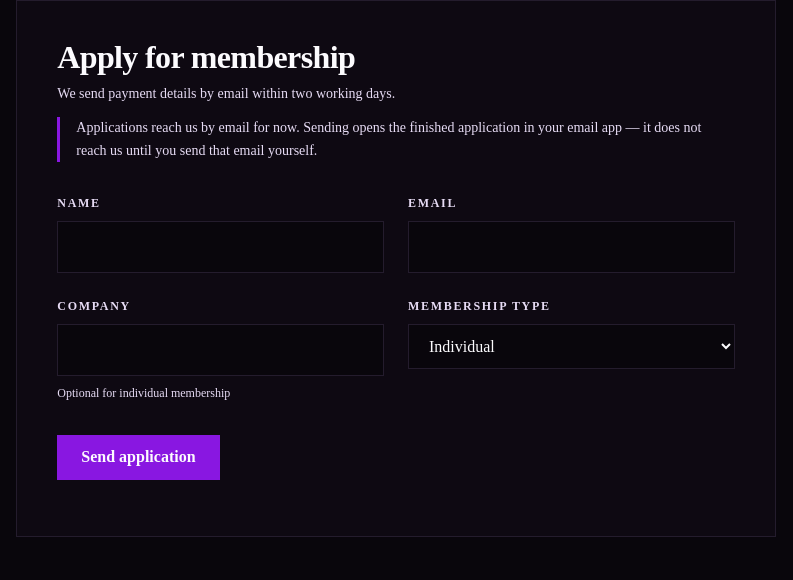
MembershipForm (en) › asks for a company name only when the application is a company one
Type "Anna" into the field labelled "Name". click: [221, 247]
box: left=57, top=221, right=384, bottom=273
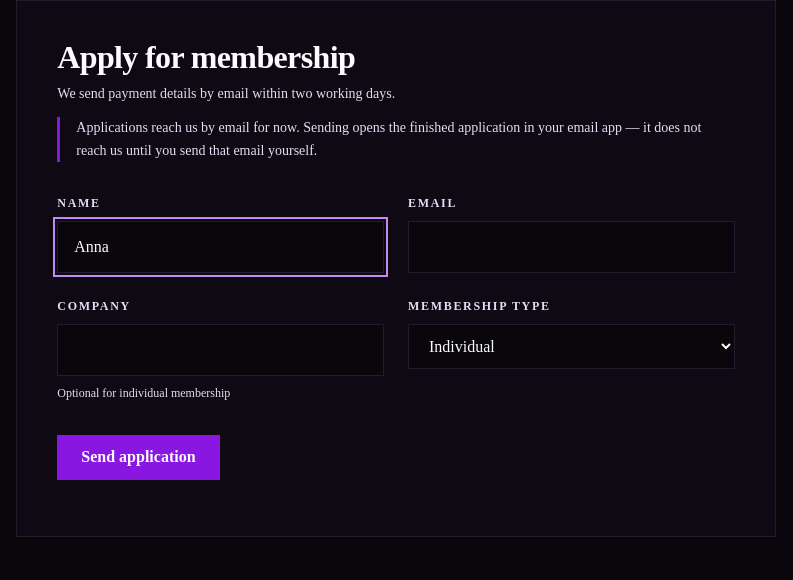
Type "anna@example.is" into the field labelled "Email". click: [571, 247]
box: left=408, top=221, right=735, bottom=273
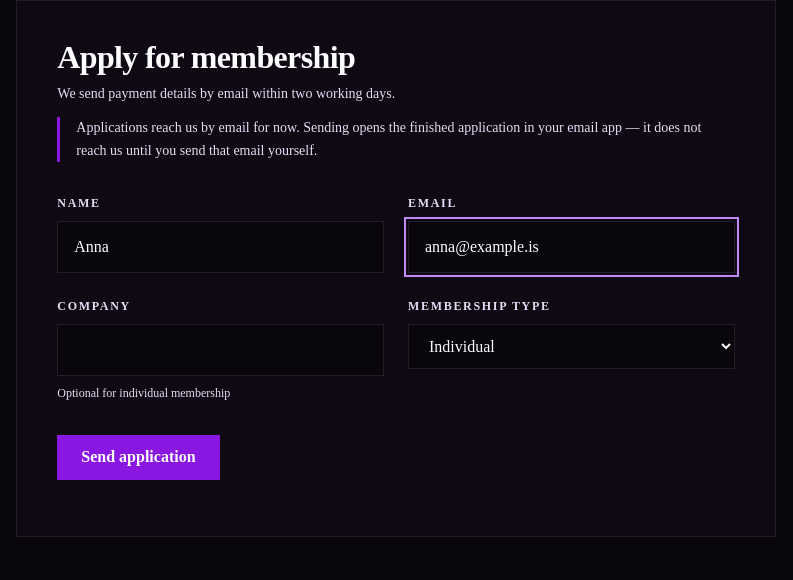
Select "Company" in the dropdown labelled "Membership type". click: [571, 346]
box: left=408, top=324, right=735, bottom=369
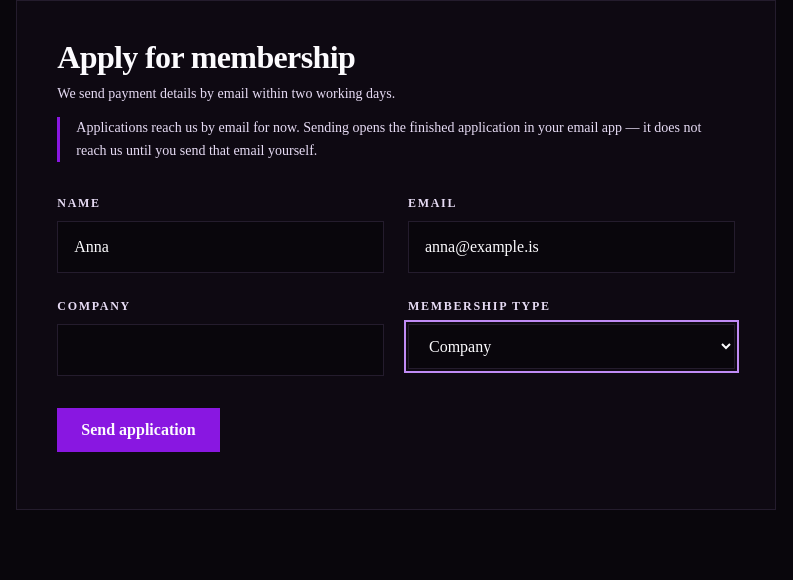
Click the button "Send application". click: [138, 430]
box: left=57, top=408, right=220, bottom=452
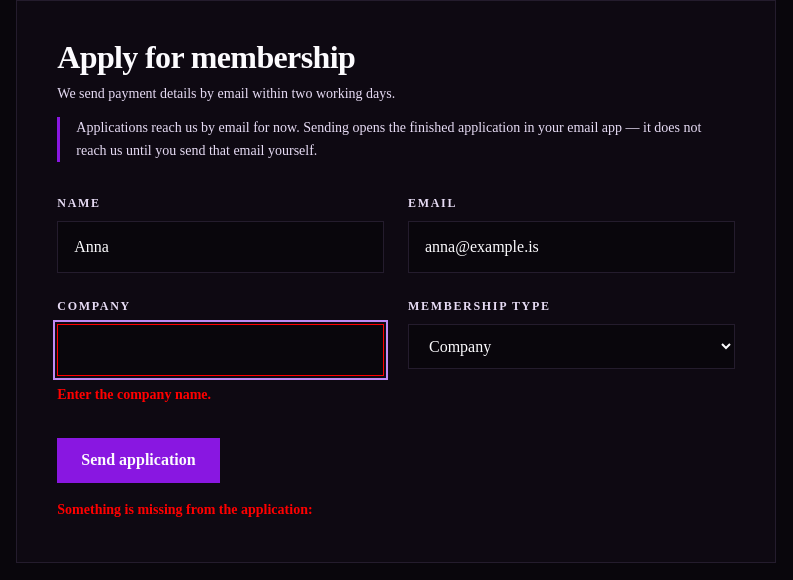
Result: the text "Enter the company name." is shown at left=57, top=387, right=211, bottom=402
